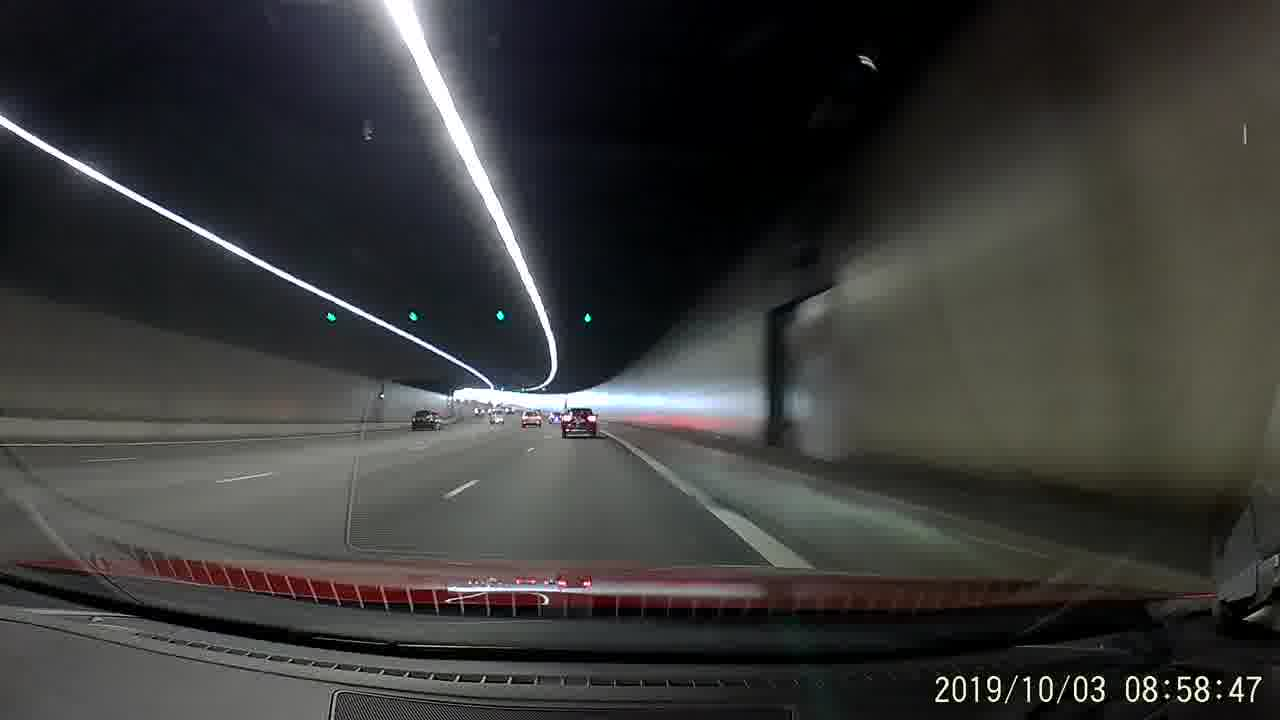car: (560, 406, 598, 439), (408, 406, 445, 435), (519, 407, 543, 427)
